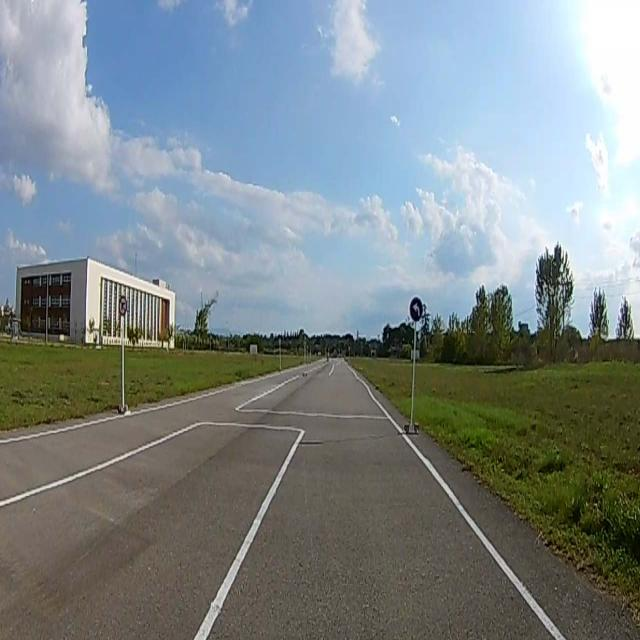sagadonulmez: (119, 298, 127, 316)
sol: (410, 298, 422, 321)
